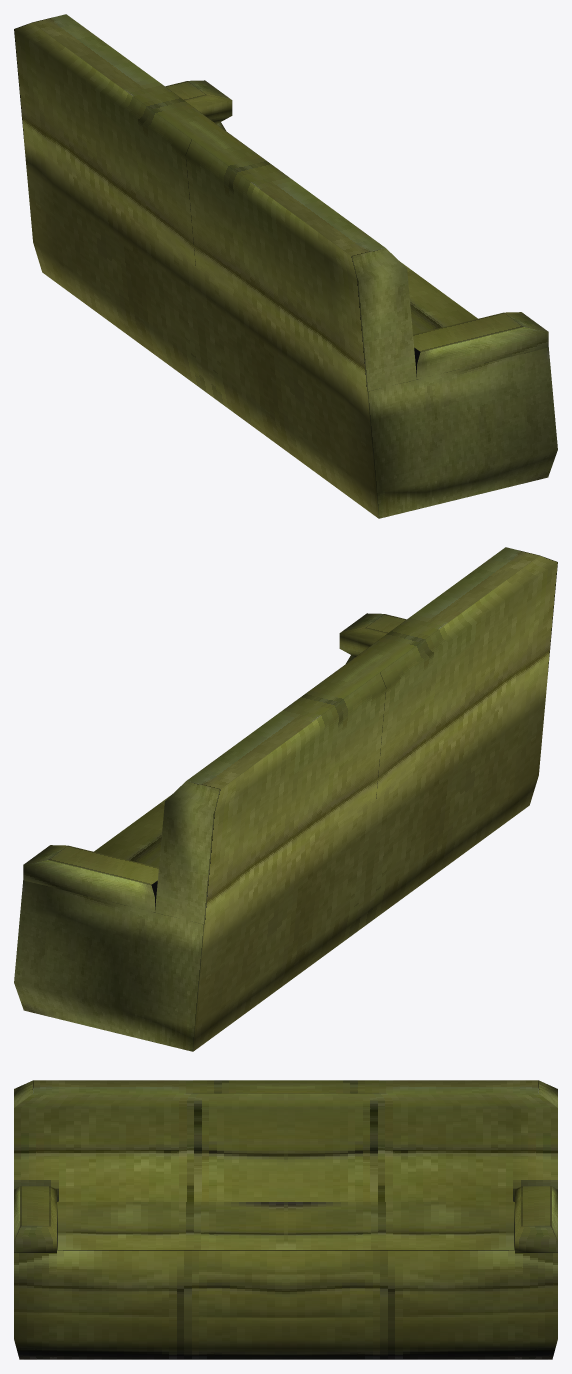
Rendered from couch.glb.
3 views of the same model, one above another, from view 1: azimuth 30°, elevation 25°; view 2: azimuth 150°, elevation 25°; view 3: azimuth 270°, elevation 25° (orthographic). The views are drawn at different scales.
Visible parts, largest first — view 1: Cube; view 2: Cube; view 3: Cube.
Boxes of the visible parts, x1,y1,x2,y2 form: Cube: (14, 14, 557, 518); Cube: (14, 547, 557, 1051); Cube: (14, 1080, 557, 1359).
Bounding box in the file's own units: 1.15 × 1.43 × 3.42.
1 material, 1 textured.
